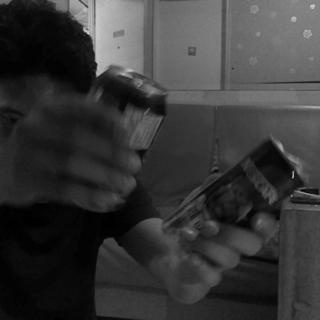alumunium_can: (158, 138, 306, 264), (83, 65, 170, 162)
